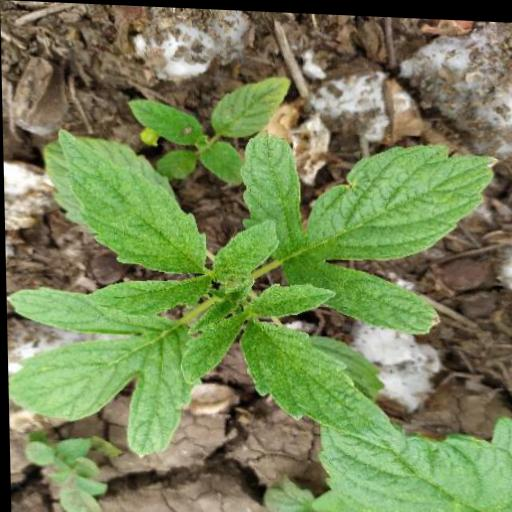crop: (2, 99, 512, 480)
